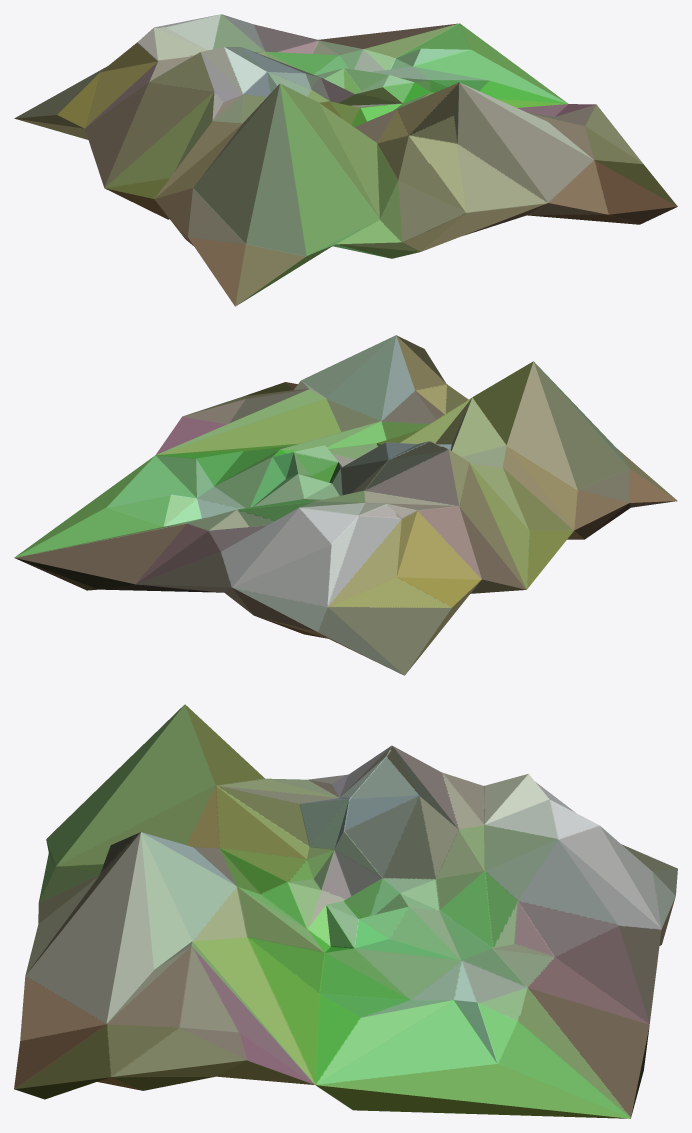
The model's file is mountainRange.fbx.
The picture shows the model from 3 angles, top to bottom: view 1: azimuth 30°, elevation 25°; view 2: azimuth 150°, elevation 25°; view 3: azimuth 270°, elevation 25°; orthographic projection. The views are drawn at different scales.
Parts seen in each view (by area): view 1: Mesh_0; view 2: Mesh_0; view 3: Mesh_0.
Boxes of the visible parts, x1,y1,x2,y2 form: Mesh_0: (14,14,677,306); Mesh_0: (14,335,677,675); Mesh_0: (14,704,677,1118).
Bounding box in the file's own units: 116 × 43.37 × 118.
Materials: 1 (1 with a texture image).
